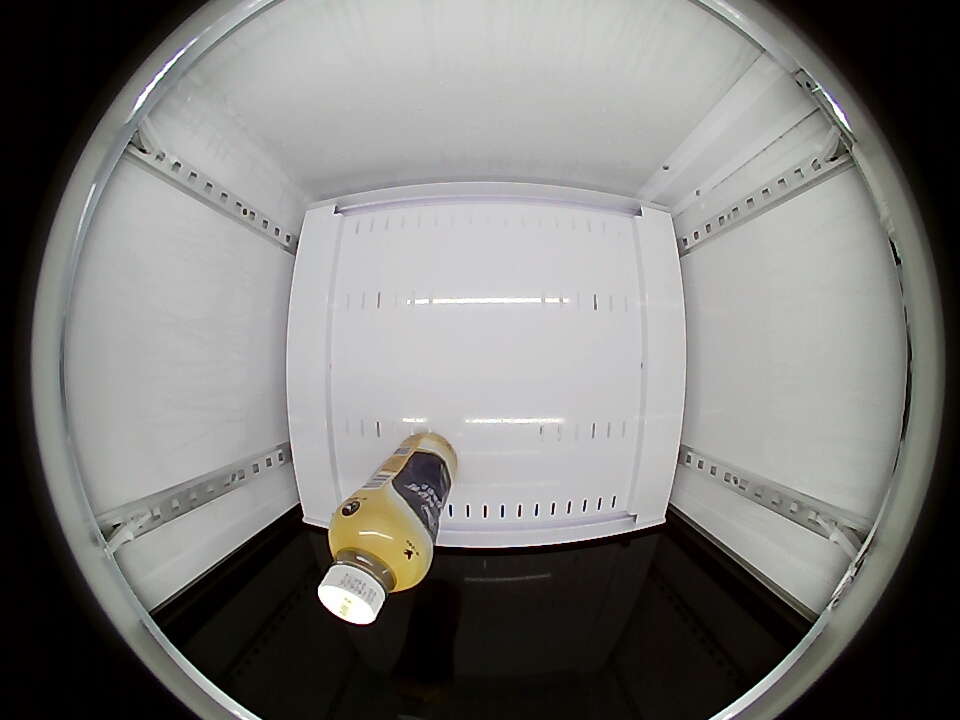asamu: (317, 509, 429, 626)
